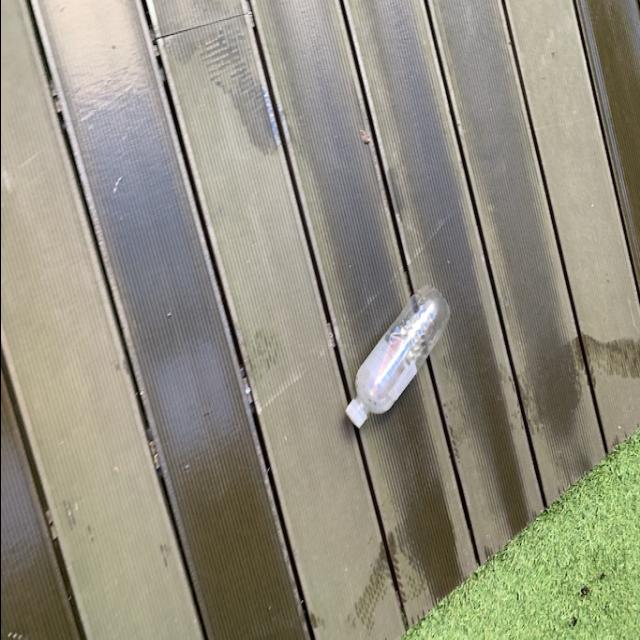PET: (342, 284, 449, 428)
